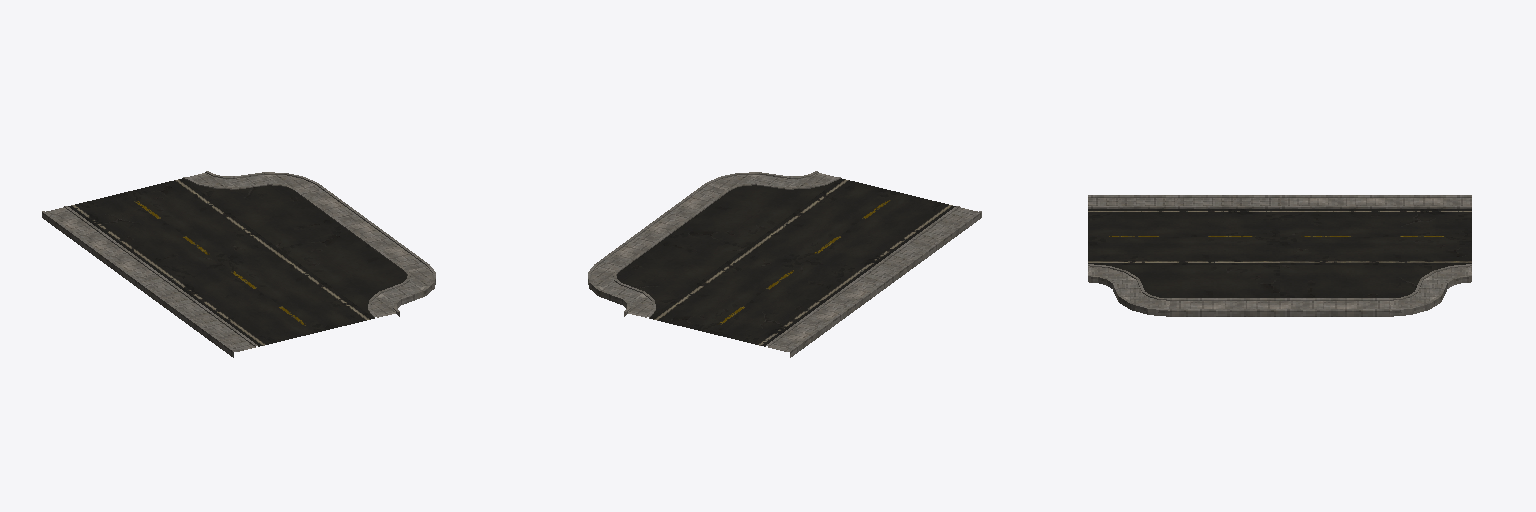
The picture shows the model from 3 angles: view 1: azimuth 30°, elevation 25°; view 2: azimuth 150°, elevation 25°; view 3: azimuth 270°, elevation 25°; orthographic projection.
Visible parts, largest first — view 1: 7_Road-Parking; view 2: 7_Road-Parking; view 3: 7_Road-Parking.
Part boxes in pixels (bbox=[...]): 7_Road-Parking: bbox=[42, 171, 435, 357]; 7_Road-Parking: bbox=[588, 171, 981, 357]; 7_Road-Parking: bbox=[1088, 195, 1471, 316].
Size of the model in its own units: 0.8826 by 0.0219 by 1.24.
Materials: 1 (1 with a texture image).